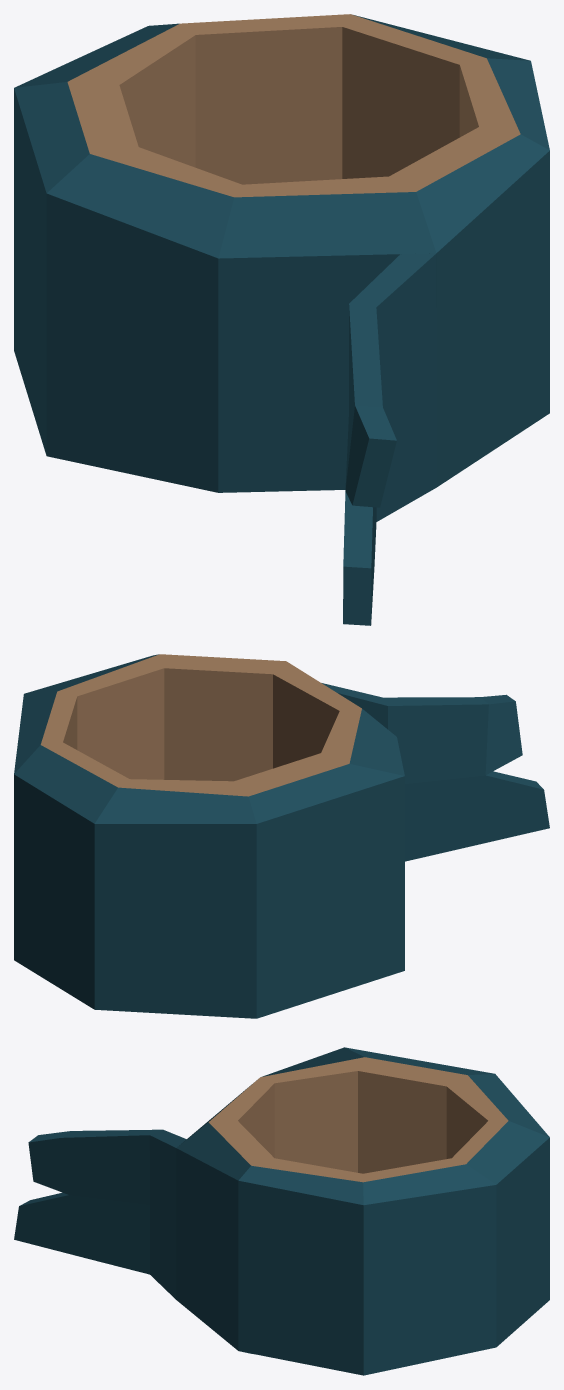
Rendered from SM_Adhesive_Tape.gltf.
3 views of the same model, one above another, from view 1: azimuth 30°, elevation 25°; view 2: azimuth 150°, elevation 25°; view 3: azimuth 270°, elevation 25° (orthographic). The views are drawn at different scales.
Parts seen in each view (by area): view 1: SM_Adhesive_Tape; view 2: SM_Adhesive_Tape; view 3: SM_Adhesive_Tape.
Part boxes in pixels (bbox=[...]): SM_Adhesive_Tape: bbox=[14, 14, 549, 625]; SM_Adhesive_Tape: bbox=[14, 654, 549, 1018]; SM_Adhesive_Tape: bbox=[14, 1047, 549, 1375].
Size of the model in its own units: 0.176 by 0.0977 by 0.2524.
1 material, 1 textured.
